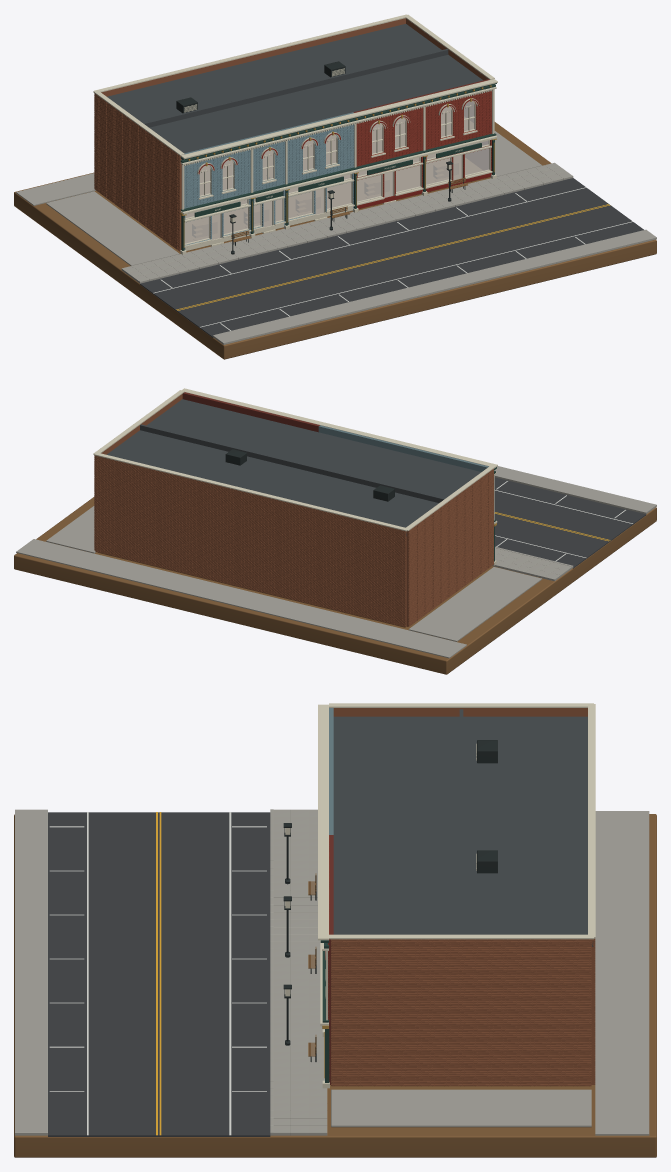
The model's file is danville.glb.
3 renders of one model, top to bottom at view 1: azimuth 30°, elevation 25°; view 2: azimuth 150°, elevation 25°; view 3: azimuth 270°, elevation 25°, orthographic. The views are drawn at different scales.
Visible parts, largest first — view 1: Static_002, Static_003, Static_000, Static_001; view 2: Static_002, Static_003, Static_000; view 3: Static_002, Static_003, Static_000, Static_001.
Boxes of the visible parts, <box> form: Static_002: <box>14,14,656,359</box>; Static_003: <box>140,79,656,344</box>; Static_000: <box>46,91,354,265</box>; Static_001: <box>160,131,408,330</box>; Static_002: <box>14,390,656,674</box>; Static_003: <box>182,388,656,568</box>; Static_000: <box>318,425,542,641</box>; Static_002: <box>14,704,656,1157</box>; Static_003: <box>15,704,329,1136</box>; Static_000: <box>329,703,593,834</box>; Static_001: <box>49,823,316,968</box>.
Bounding box in the file's own units: 44 × 11.3 × 37.
